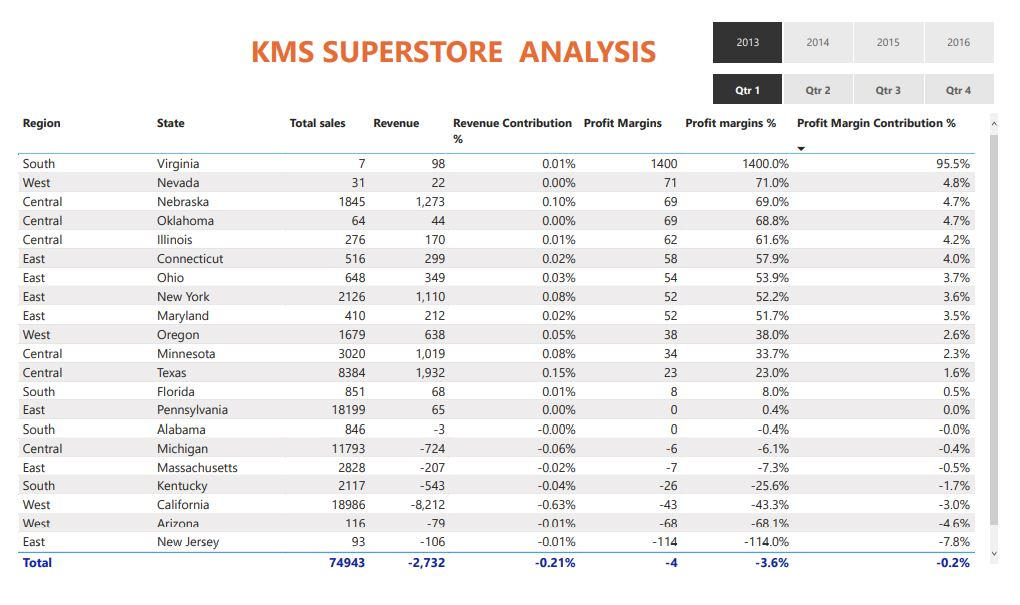

Layout of this report page (visuals, bound fields, positions):
{"tool":"powerbi","page":{"name":"Data table insight","canvas":[1280,720],"ordinal":5},"visuals":[{"type":"tableEx","fields":{"Values":["Store.Region","Store.State","Store.Total sales","Store.Revenue","Store.Revenue Contribution %","Store.Profit Margins","Store.Profit margins %","Store.Profit Margin Contribution %"]},"box":[12.3,117.6,1253.7,590],"z":0},{"type":"slicer","fields":{"Values":["Store.Order Date.Variation.Date Hierarchy.Year"]},"box":[875.2,0,404.8,65.5],"z":1000},{"type":"slicer","fields":{"Values":["Store.Order Date.Variation.Date Hierarchy.Quarter"]},"box":[875.2,65.5,404.8,52.1],"z":2000},{"type":"textbox","box":[278.8,13.4,584.6,67.2],"z":3000}]}

Visuals, with their boxes on the page's 1280x720 design canvas (x1, y1, x2, y2). These are canvas units, not pixel positions in the 1020x605 screenshot, which may show the page scaled, cropped or inside an application window:
tableEx - Store.Region x Store.State: bbox=(12, 118, 1266, 708)
slicer - Store.Order Date.Variation.Date Hierarchy.Year: bbox=(875, 0, 1280, 66)
slicer - Store.Order Date.Variation.Date Hierarchy.Quarter: bbox=(875, 66, 1280, 118)
textbox: bbox=(279, 13, 863, 81)
